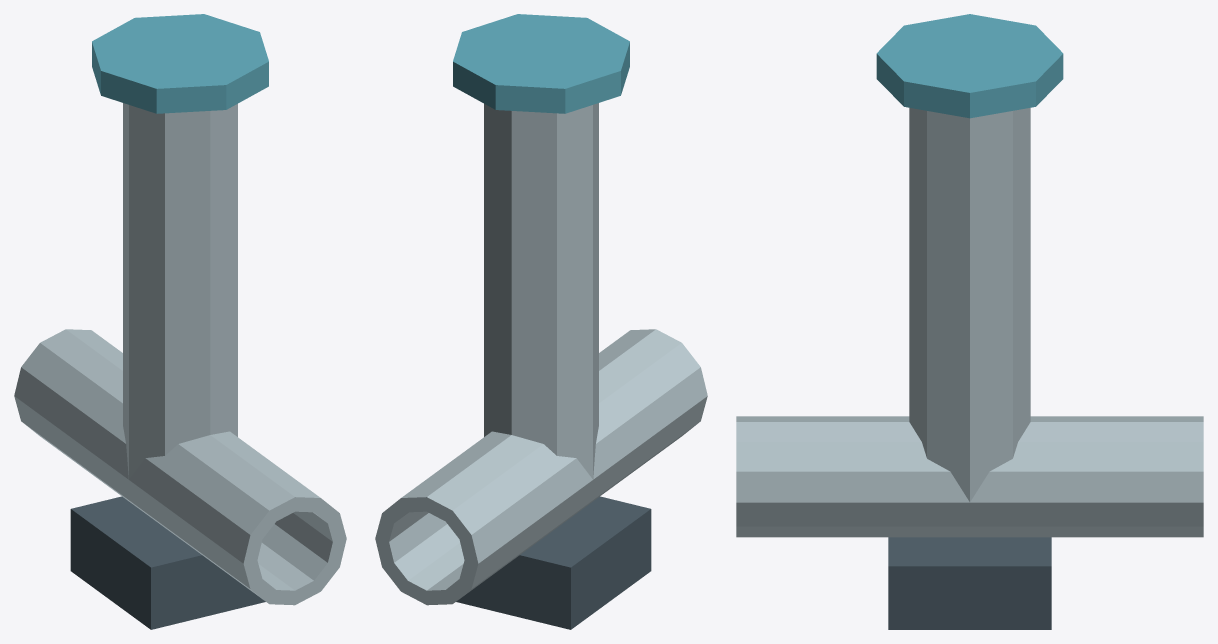
Rendered from vertical-pipe-riser.glb.
The picture shows the model from 3 angles, left to right: view 1: azimuth 30°, elevation 25°; view 2: azimuth 150°, elevation 25°; view 3: azimuth 270°, elevation 25°; orthographic projection.
Visible parts, largest first — view 1: steel, blue, dark; view 2: steel, blue, dark; view 3: steel, blue, dark.
Part boxes in pixels (x1=…): steel: x1=14, y1=103, x2=346, y2=605; blue: x1=92, y1=14, x2=268, y2=113; dark: x1=70, y1=496, x2=265, y2=629; steel: x1=375, y1=103, x2=707, y2=605; blue: x1=453, y1=14, x2=629, y2=113; dark: x1=456, y1=496, x2=651, y2=629; steel: x1=736, y1=108, x2=1203, y2=537; blue: x1=876, y1=14, x2=1063, y2=118; dark: x1=888, y1=537, x2=1051, y2=629.
Size of the model in its own units: 0.4 by 1.28 by 1.
